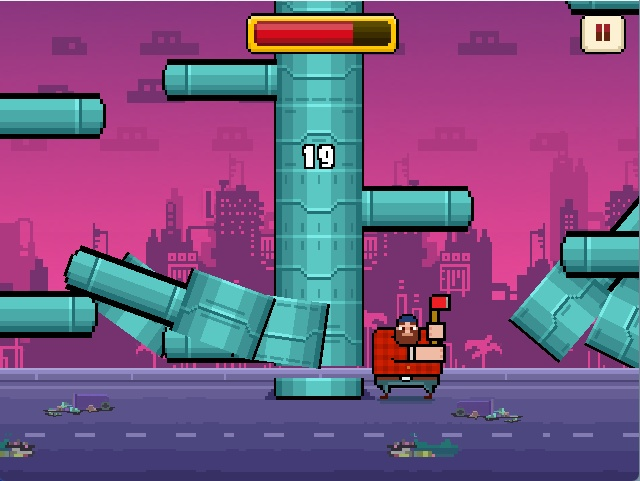left_obs: (156, 54, 285, 109)
right_obs: (358, 182, 478, 237)
timberman: (367, 287, 455, 408)
